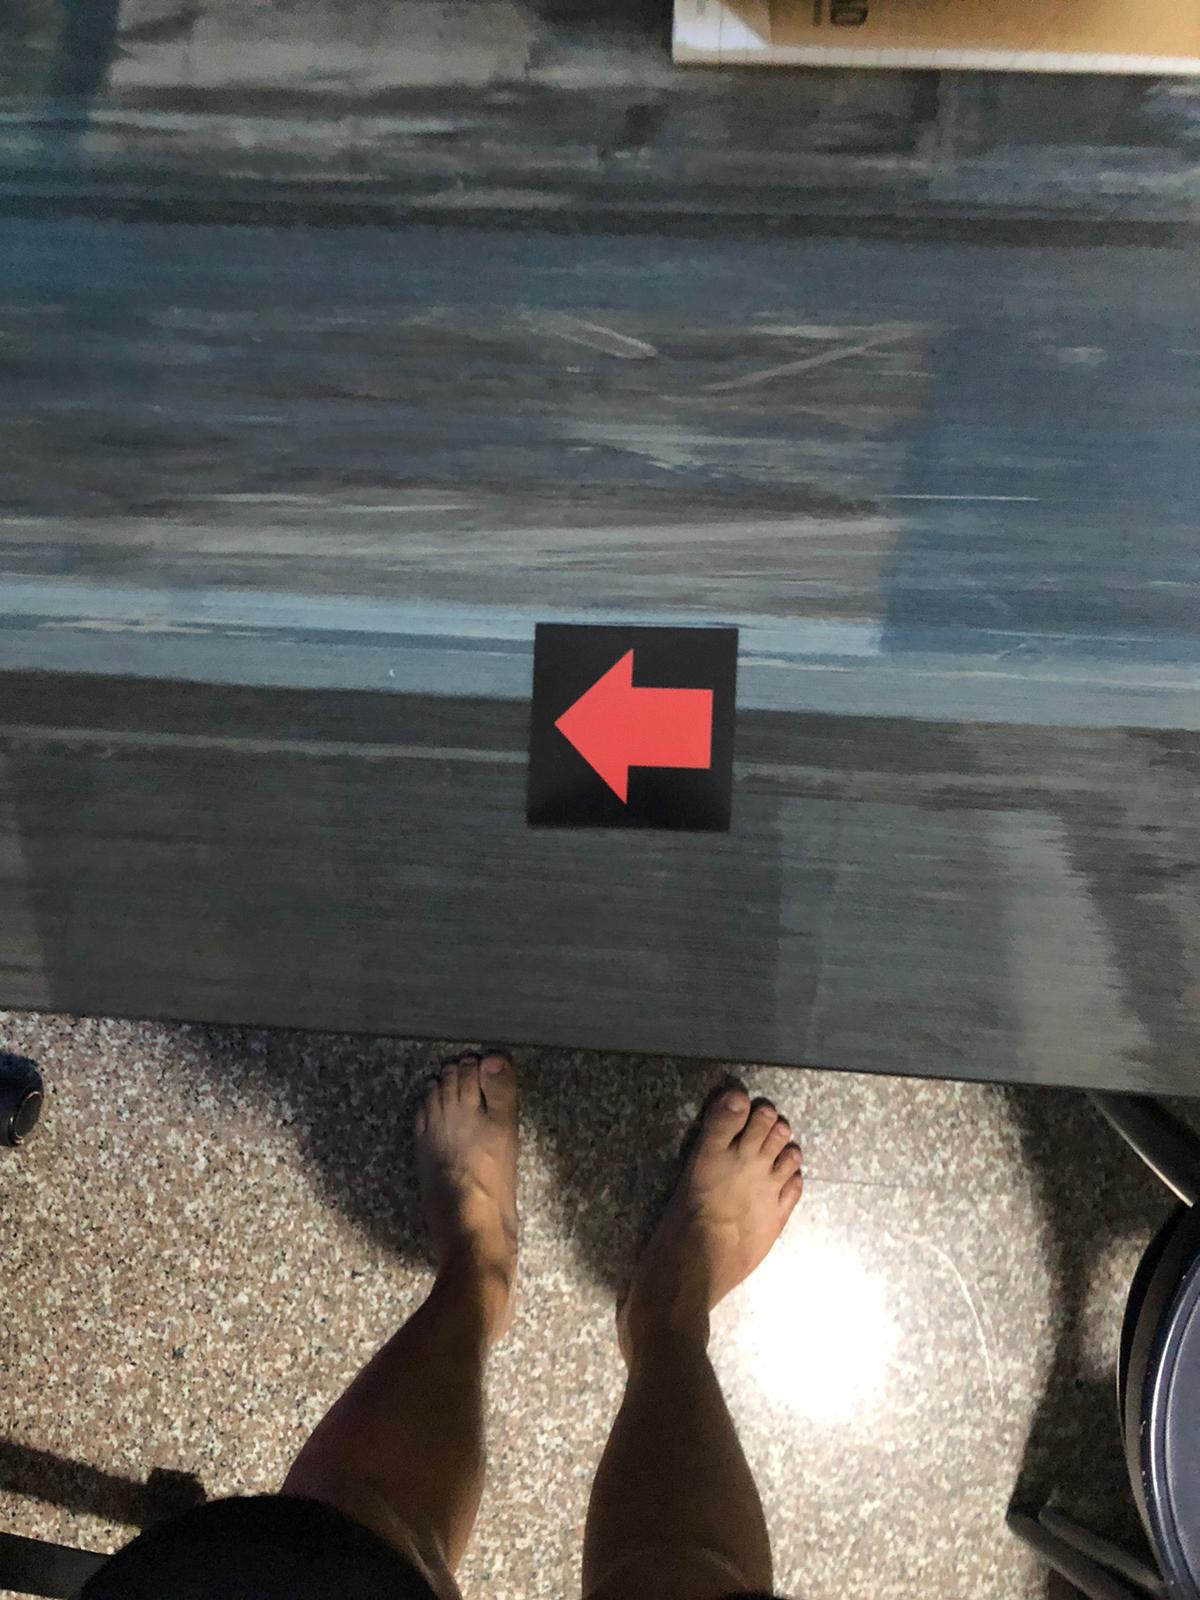Left Arrow: (542, 632, 725, 826)
